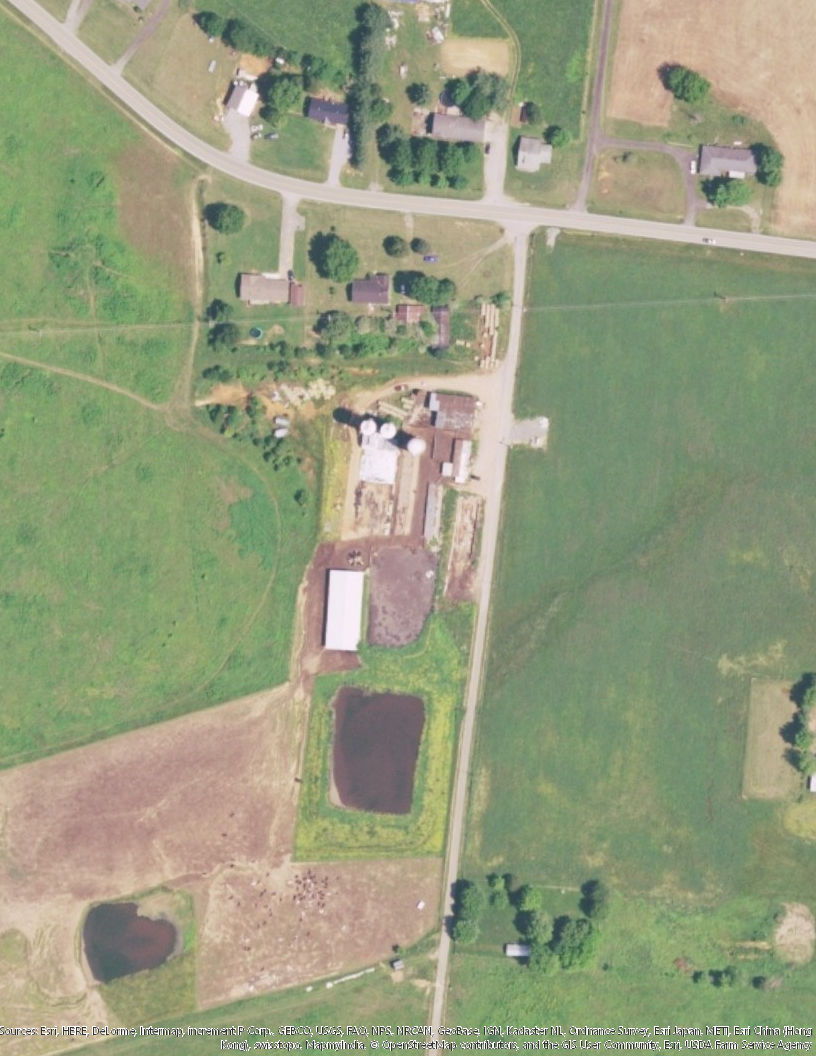cafo: (315, 562, 376, 664)
